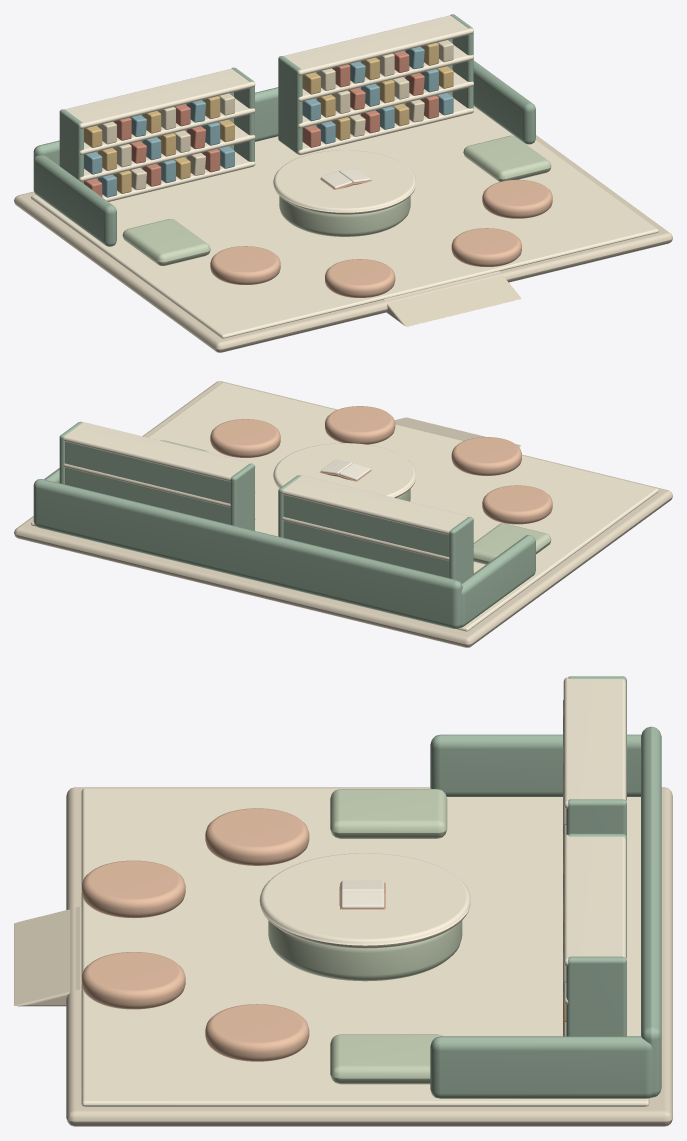
File: learning_room.glb
The picture shows the model from 3 angles, top to bottom: view 1: azimuth 30°, elevation 25°; view 2: azimuth 150°, elevation 25°; view 3: azimuth 270°, elevation 25°; orthographic projection. The views are drawn at different scales.
Parts seen in each view (by area): view 1: Learning | inset reading floor, Learning | floating rounded foundation, Learning | reading tabletop, Learning | east shelf.003, Learning | west shelf.003, Learning | broad entry ramp, Learning | left short return, Learning | right short return, Learning | low communal reading table, Learning | side reading pad 0, Learning | side reading pad 1, Learning | reading perch 04 (+14 smaller); view 2: Learning | inset reading floor, Learning | back low wall, Learning | floating rounded foundation, Learning | east bookcase back, Learning | west bookcase back, Learning | reading tabletop, Learning | east shelf.003, Learning | west shelf.003, Learning | left short return, Learning | reading perch 01, Learning | reading perch 02, Learning | reading perch 04 (+7 smaller); view 3: Learning | inset reading floor, Learning | floating rounded foundation, Learning | reading tabletop, Learning | right short return, Learning | left short return, Learning | east shelf.003, Learning | west shelf.003, Learning | back low wall, Learning | low communal reading table, Learning | side reading pad 0, Learning | broad entry ramp, Learning | side reading pad 1 (+7 smaller).
Boxes of the visible parts, x1,y1,x2,y2 form: Learning | inset reading floor: (31,106,658,338); Learning | floating rounded foundation: (14,135,672,352); Learning | reading tabletop: (273,150,416,214); Learning | east shelf.003: (284,15,473,75); Learning | west shelf.003: (65,68,255,129); Learning | broad entry ramp: (383,271,520,326); Learning | left short return: (33,155,116,246); Learning | right short return: (473,60,535,144); Learning | low communal reading table: (279,196,410,236); Learning | side reading pad 0: (122,219,210,265); Learning | side reading pad 1: (463,135,551,181); Learning | reading perch 04: (482,179,552,218); Learning | inset reading floor: (31,382,658,631); Learning | back low wall: (33,479,462,628); Learning | floating rounded foundation: (14,381,672,647); Learning | east bookcase back: (65,441,230,524); Learning | west bookcase back: (283,495,448,577); Learning | reading tabletop: (273,443,416,497); Learning | east shelf.003: (63,421,255,481); Learning | west shelf.003: (282,475,473,534); Learning | left short return: (459,535,535,627); Learning | reading perch 01: (482,485,552,524); Learning | reading perch 02: (451,437,521,475); Learning | reading perch 04: (210,419,280,457); Learning | inset reading floor: (81,788,649,1106); Learning | floating rounded foundation: (66,787,672,1126); Learning | reading tabletop: (259,853,470,948); Learning | right short return: (430,1036,652,1098); Learning | left short return: (430,734,641,796); Learning | east shelf.003: (563,834,626,966); Learning | west shelf.003: (563,677,626,808); Learning | back low wall: (641,726,661,1097); Learning | low communal reading table: (268,920,462,981); Learning | side reading pad 0: (330,789,447,838); Learning | broad entry ramp: (14,906,81,1006); Learning | side reading pad 1: (330,1034,442,1084).
Bounding box in the file's own units: 9 × 1.88 × 7.6.
